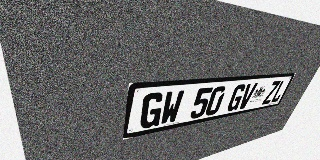0: (204, 86, 227, 116)
5: (189, 87, 213, 119)
G: (139, 92, 165, 130), (225, 84, 247, 112)
L: (270, 80, 289, 103)
V: (237, 83, 258, 110)
W: (159, 90, 185, 126)
Z: (261, 81, 281, 105)
